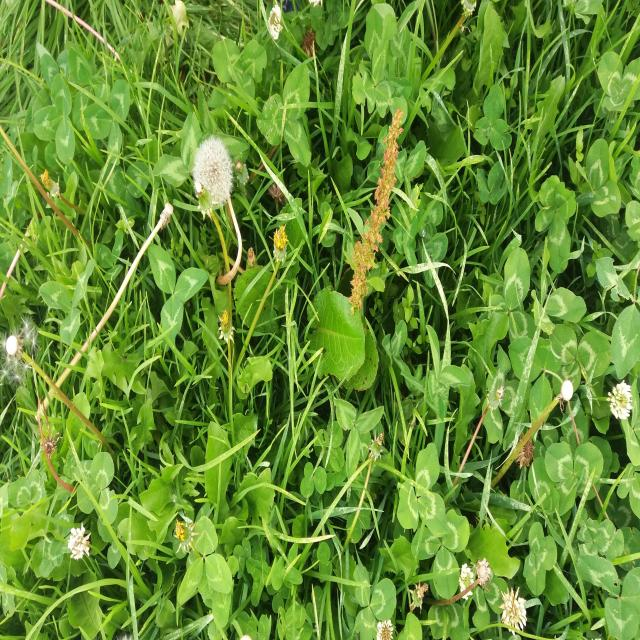Four Leaf Clover: (535, 175, 577, 274)
